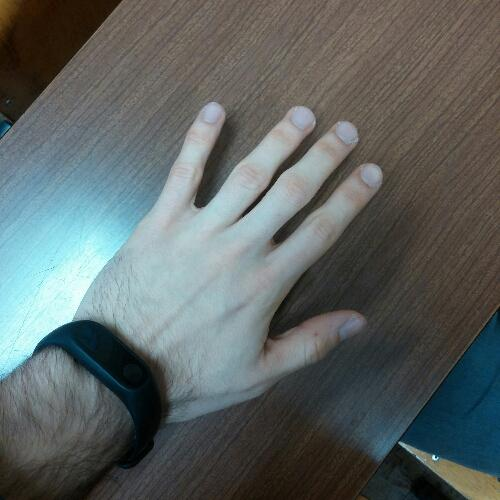paper: (64, 96, 392, 426)
